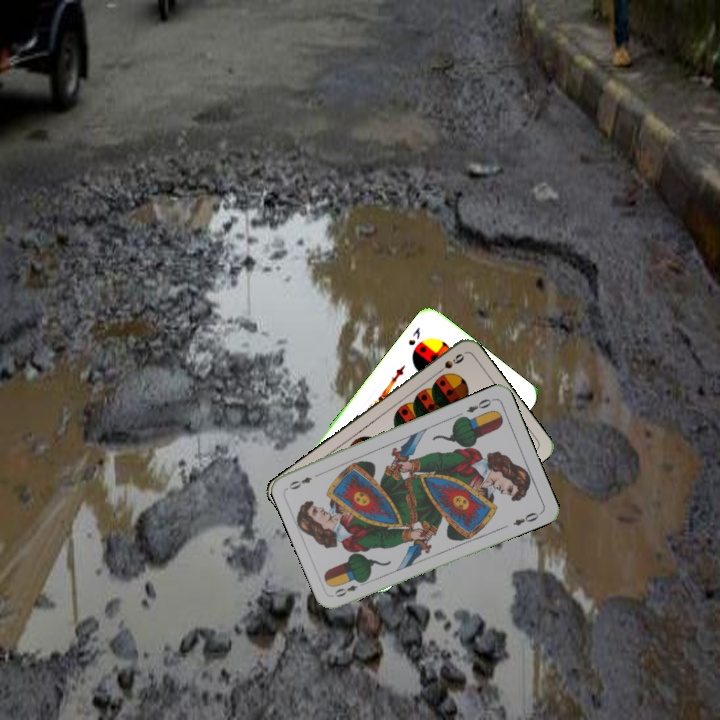EO: (330, 577, 368, 600), (462, 395, 494, 415)
S9: (431, 349, 467, 378)
SK: (404, 323, 423, 348)
